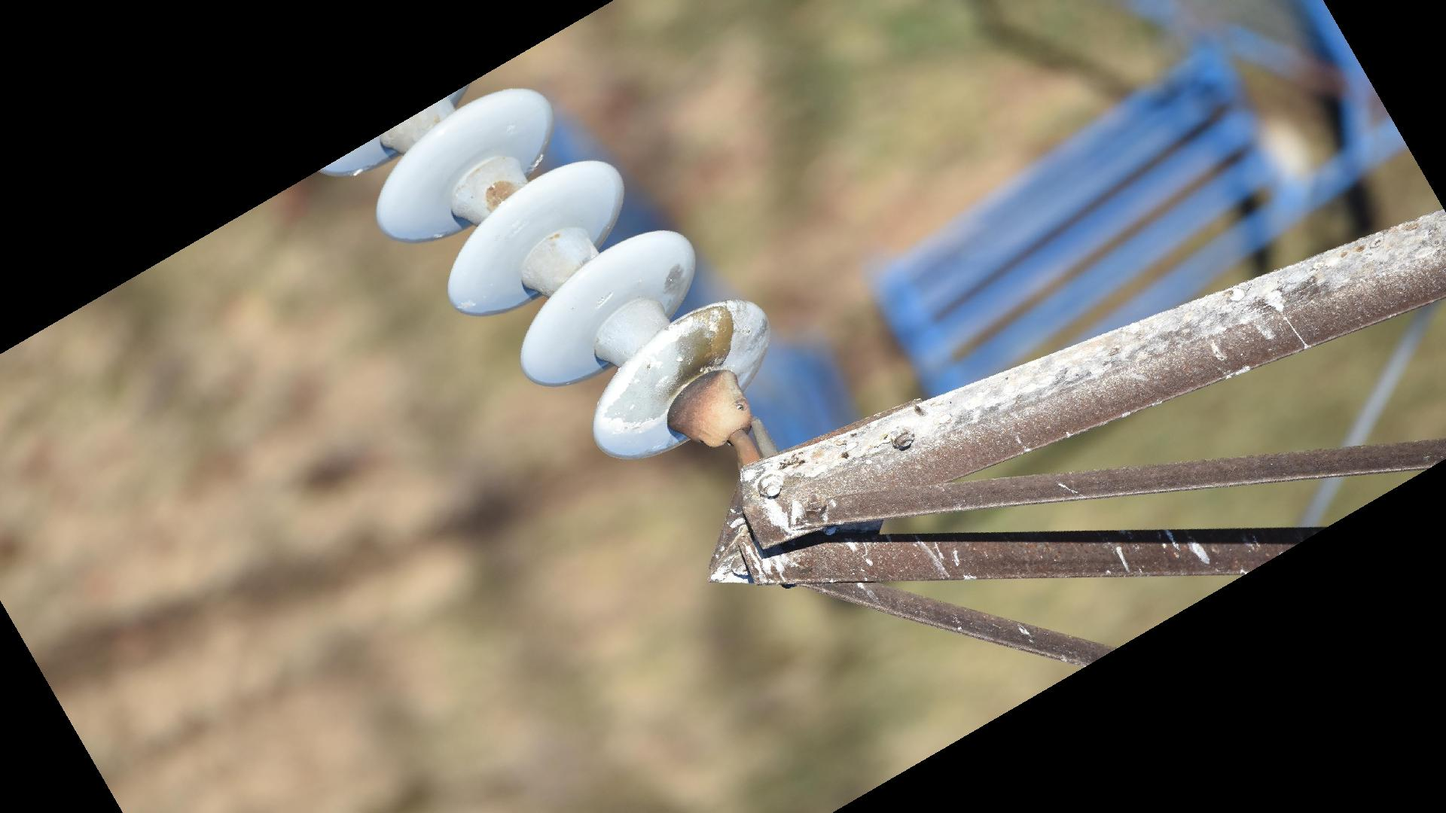insulator: (308, 79, 776, 470)
insulator_flashover: (605, 303, 735, 430)
